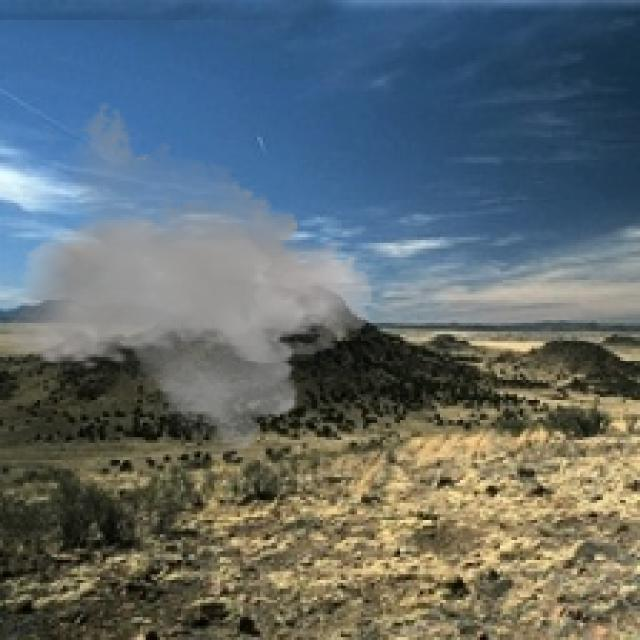Smoke: (6, 100, 374, 463)
